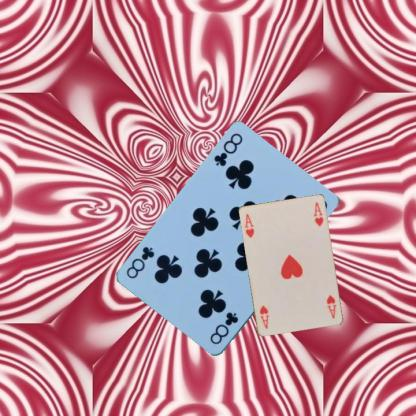8c: (211, 131, 244, 168), (207, 310, 240, 346)
Ah: (324, 292, 338, 320), (242, 211, 255, 239)
